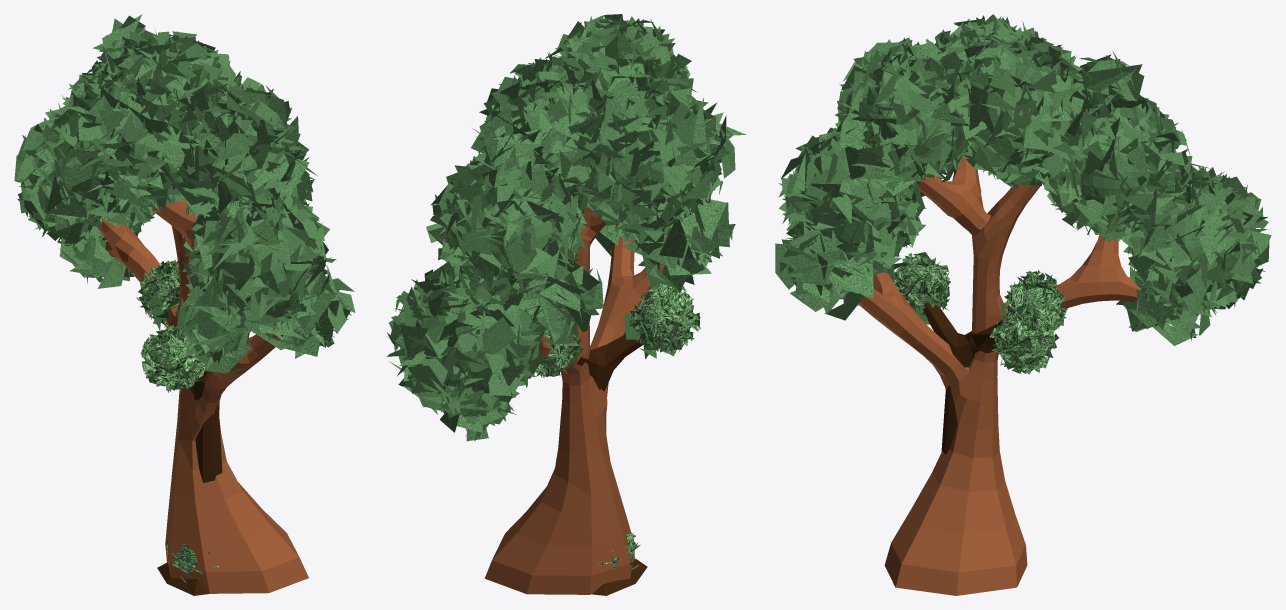
3 renders of one model, left to right at view 1: azimuth 30°, elevation 25°; view 2: azimuth 150°, elevation 25°; view 3: azimuth 270°, elevation 25°, orthographic. The views are drawn at different scales.
Parts seen in each view (by area): view 1: 樹, 小樹, 草堆; view 2: 樹, 小樹; view 3: 樹, 小樹.
Boxes of the visible parts, x1=… form: 樹: x1=14, y1=14, x2=355, y2=593; 小樹: x1=136, y1=260, x2=222, y2=595; 草堆: x1=166, y1=538, x2=219, y2=583; 樹: x1=386, y1=14, x2=746, y2=594; 小樹: x1=529, y1=283, x2=700, y2=595; 樹: x1=775, y1=14, x2=1271, y2=595; 小樹: x1=894, y1=252, x2=1067, y2=454.
Size of the model in its own units: 488 by 1002 by 869.
